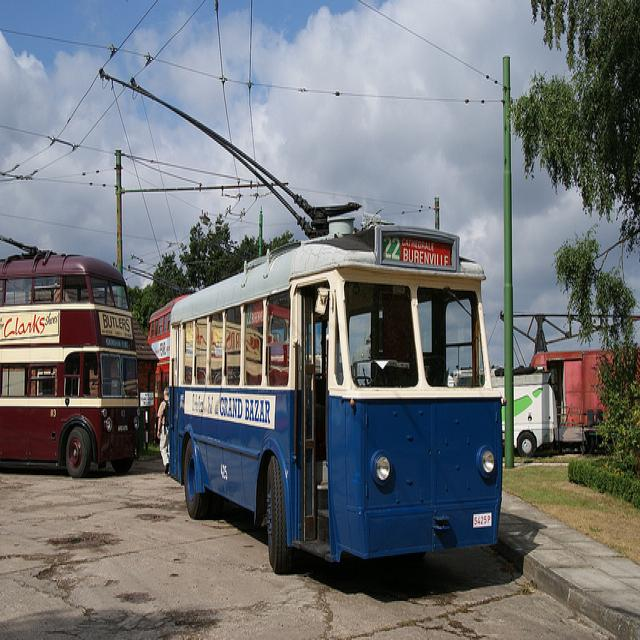Vehicle: (166, 216, 499, 572), (0, 253, 143, 480), (529, 348, 607, 448), (148, 293, 192, 414), (511, 366, 563, 457)
